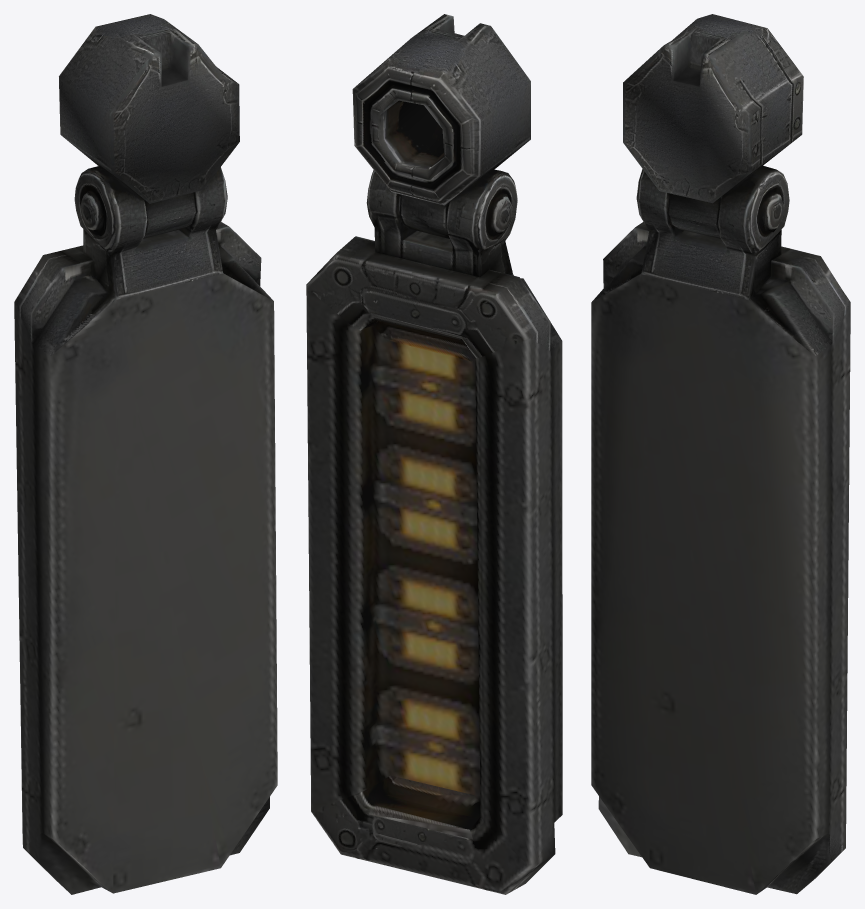
Rendered from cold-iron-v2-light-c-flood-bar.glb.
3 views of the same model, side by side, from view 1: azimuth 30°, elevation 25°; view 2: azimuth 150°, elevation 25°; view 3: azimuth 330°, elevation 25° (orthographic).
Visible parts, largest first — view 1: tripo_node_2e5066b8-63aa-4580-978c-2b9b5bd79849; view 2: tripo_node_2e5066b8-63aa-4580-978c-2b9b5bd79849; view 3: tripo_node_2e5066b8-63aa-4580-978c-2b9b5bd79849.
Boxes of the visible parts, box(x1,y1,x2,y2) form: tripo_node_2e5066b8-63aa-4580-978c-2b9b5bd79849: box(14, 14, 277, 894); tripo_node_2e5066b8-63aa-4580-978c-2b9b5bd79849: box(306, 14, 562, 894); tripo_node_2e5066b8-63aa-4580-978c-2b9b5bd79849: box(591, 14, 850, 894).
Bounding box in the file's own units: 0.2878 × 0.9984 × 0.1279.
1 material, 1 textured.
